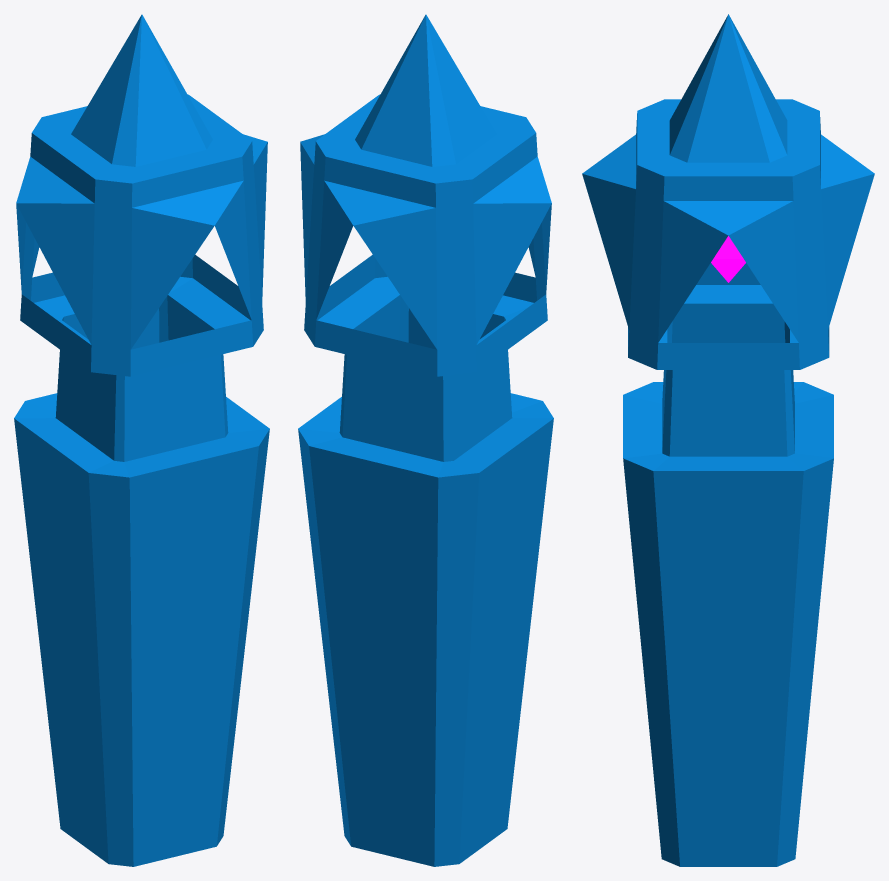
Rendered from Slon_white.glb.
The picture shows the model from 3 angles, left to right: view 1: azimuth 30°, elevation 25°; view 2: azimuth 150°, elevation 25°; view 3: azimuth 270°, elevation 25°; orthographic projection.
Visible parts, largest first — view 1: Slon001; view 2: Slon001; view 3: Slon001.
Boxes of the visible parts, box(x1,y1,x2,y2) form: Slon001: box(14, 14, 269, 866); Slon001: box(298, 14, 553, 866); Slon001: box(582, 14, 874, 866).
Size of what is drawn, in the model's own units: 0.5591 by 1.74 by 0.5591.
